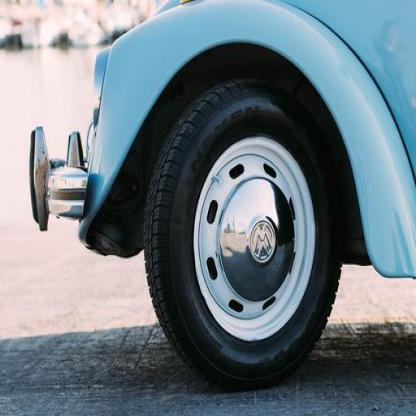Tire: (142, 72, 345, 392)
